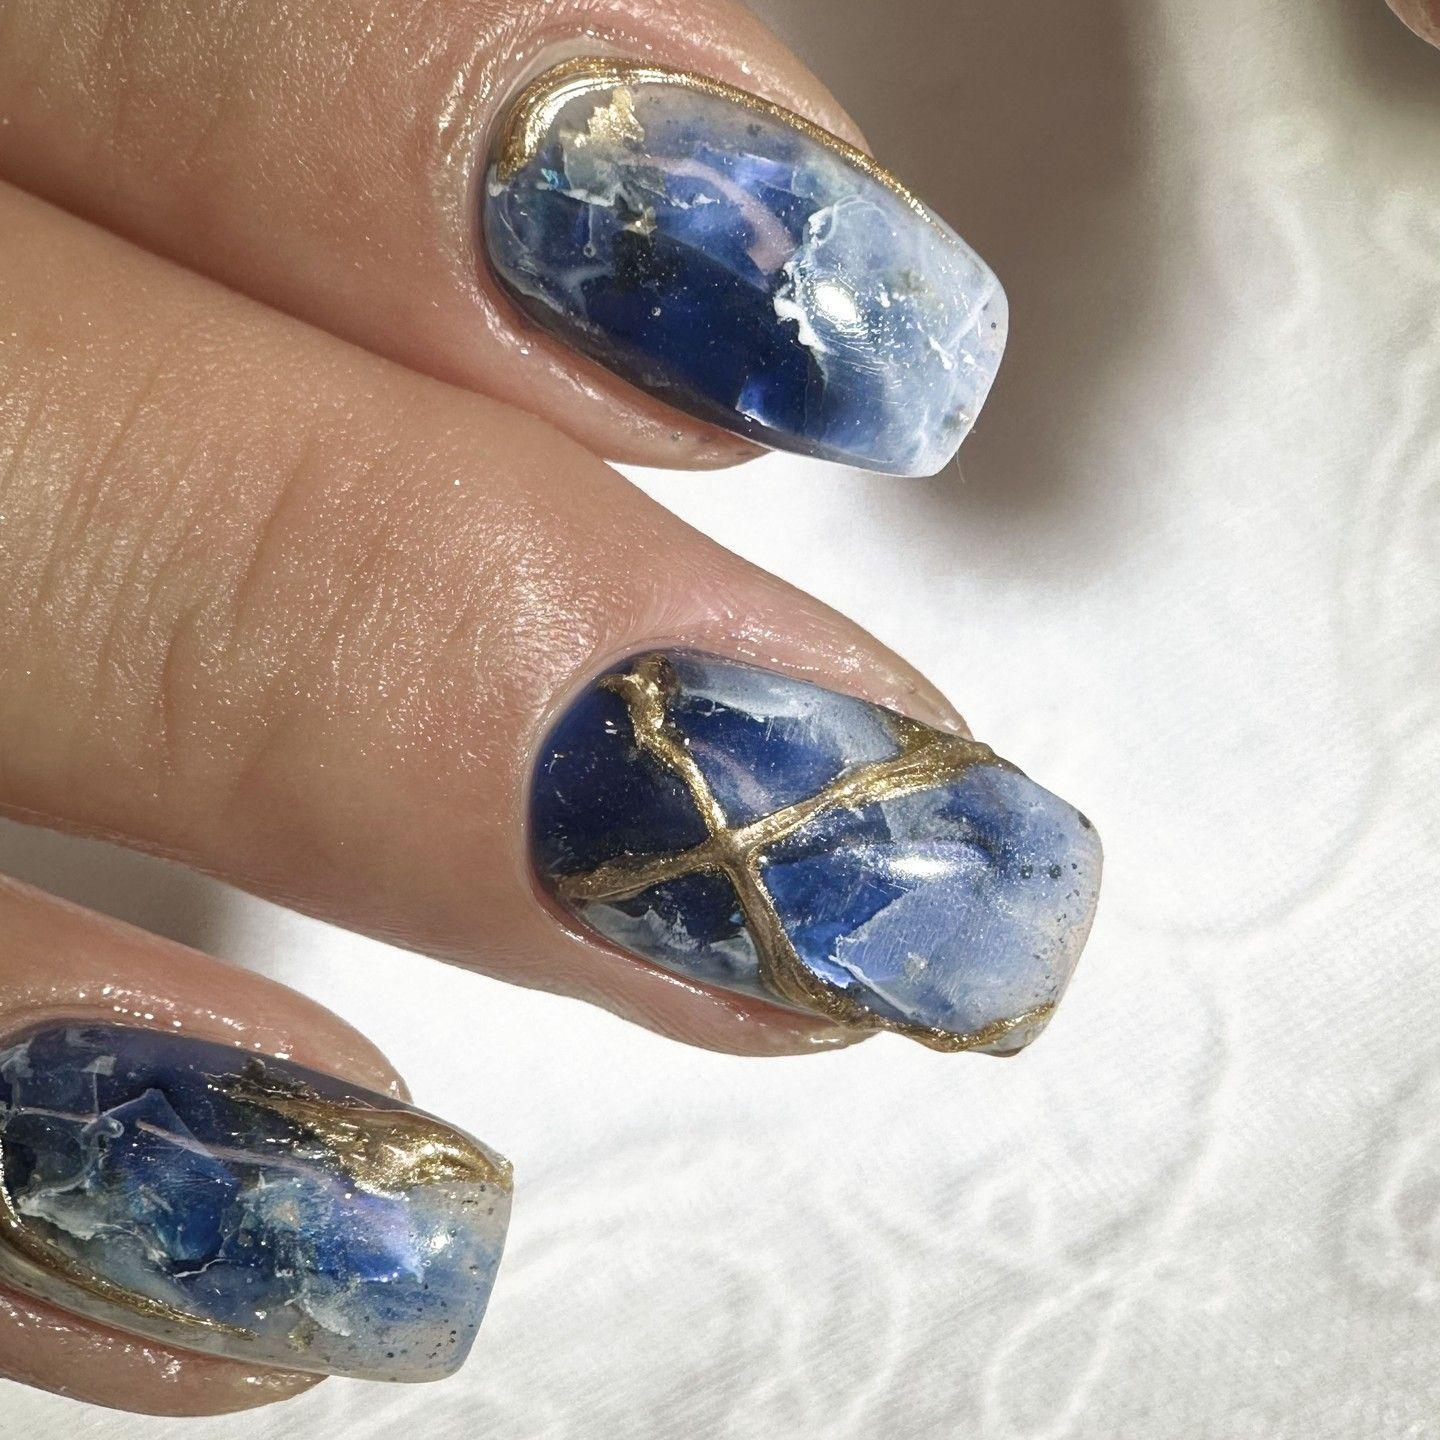nail: (524, 644, 1104, 1059), (473, 51, 1011, 479), (1, 1014, 514, 1410)
